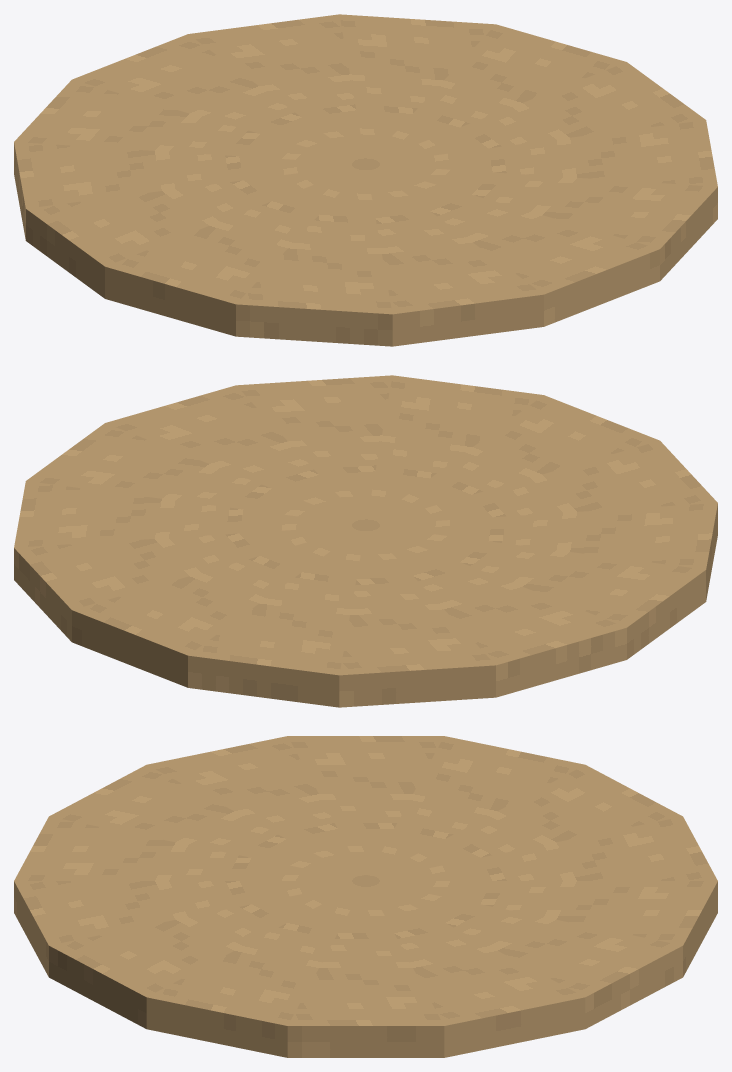
File: tortilla_flour.glb
3 views of the same model, one above another, from view 1: azimuth 30°, elevation 25°; view 2: azimuth 150°, elevation 25°; view 3: azimuth 270°, elevation 25° (orthographic).
Visible parts, largest first — view 1: block_round flatbread; view 2: block_round flatbread; view 3: block_round flatbread.
Boxes of the visible parts, x1,y1,x2,y2 form: block_round flatbread: [14, 14, 717, 346]; block_round flatbread: [14, 375, 717, 707]; block_round flatbread: [14, 736, 717, 1057].
Size of the model in its own units: 0.0466 by 0.00239 by 0.0478.
Materials: 1 (1 with a texture image).
